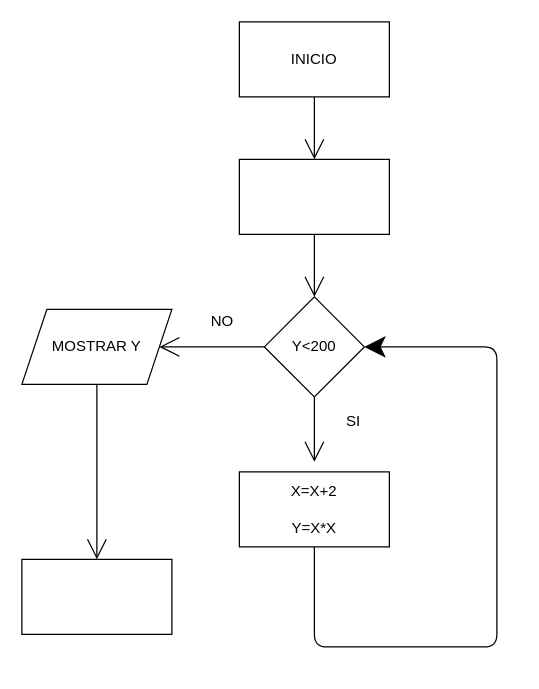
This 539x689 diagram has some shape labels left out. Here are the shapes that lost their labels. From the top down, the centre of each, then its label:
the point at 313,196: DEFINIR X,Y
the point at 96,596: FIN
